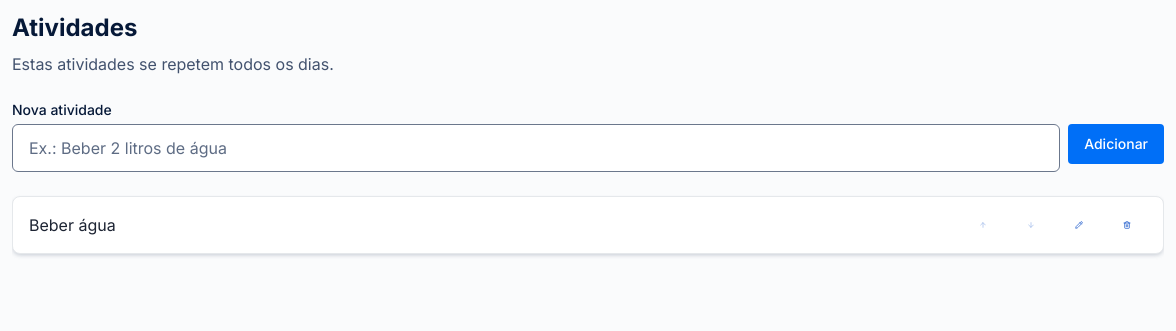
Test: Activities › deve adicionar uma atividade ao fim da lista e limpar o campo
Type "  Caminhar " into the field labelled "Nova atividade" at (536, 148), box [12,124,1060,172]
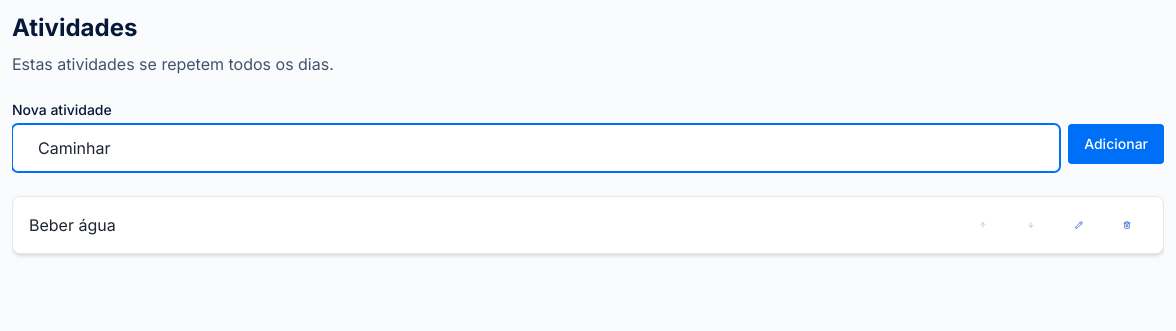
Click the button "Adicionar" at (1116, 144), box [1068,124,1164,164]
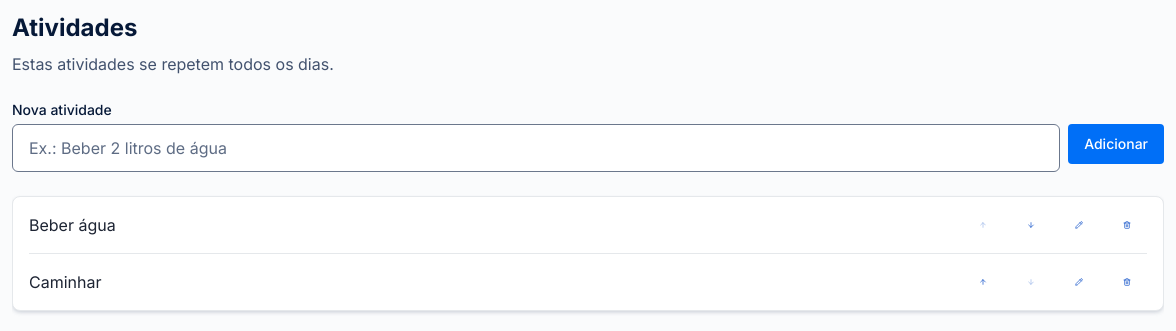
Expected: the text "Caminhar" is shown, [29,272,102,292]
Expected: the field labelled "Nova atividade" is empty, [12,124,1060,172]
